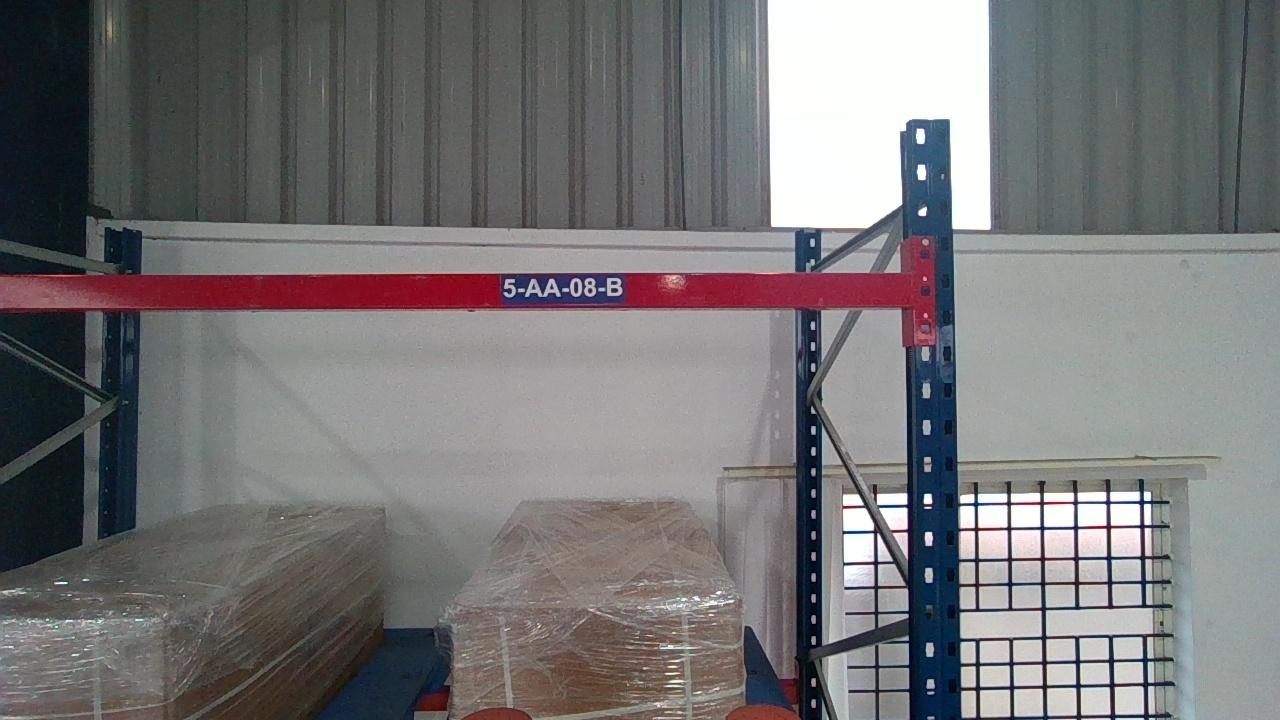h_rack: (2, 268, 915, 309)
